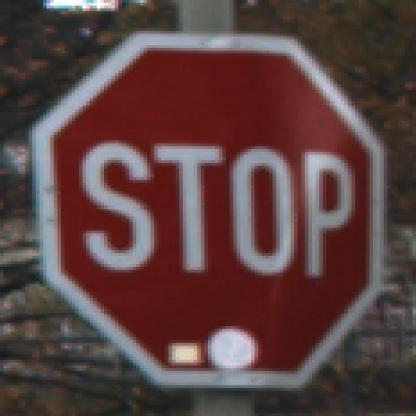stop: (19, 14, 396, 395)
